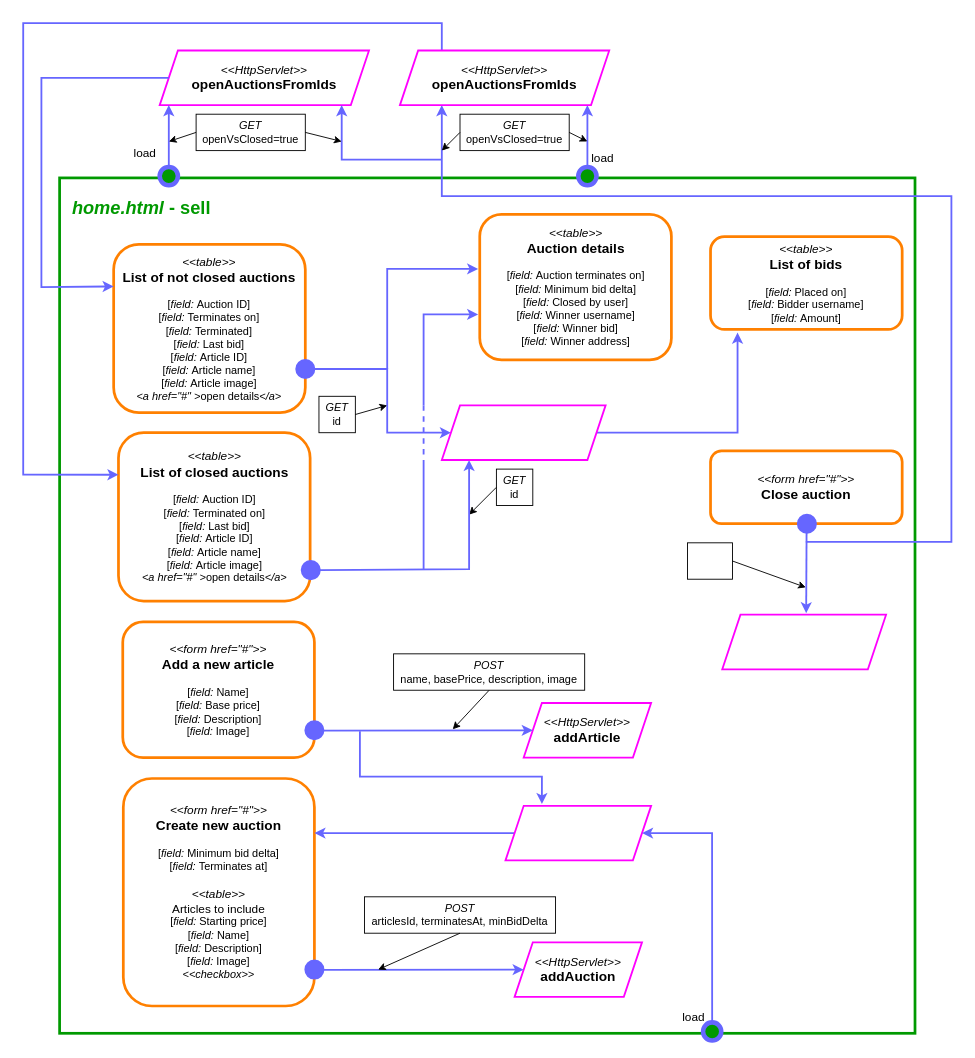
The diagram is 975 pixels wide and 1058 high, and some of its shapes have lost their labels. Here are the shapes that lost their labels. From the top down, the centre of each, then its label:
At [523,432]: "<<HttpServlet>> bidsByAuctionId".
At [709,560]: "POST id".
At [804,641]: "<<HttpServlet>> closeAuction".
At [578,832]: "<<HttpServlet>> availableArticles".
